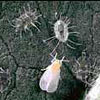whitefly: (38, 53, 64, 92)
